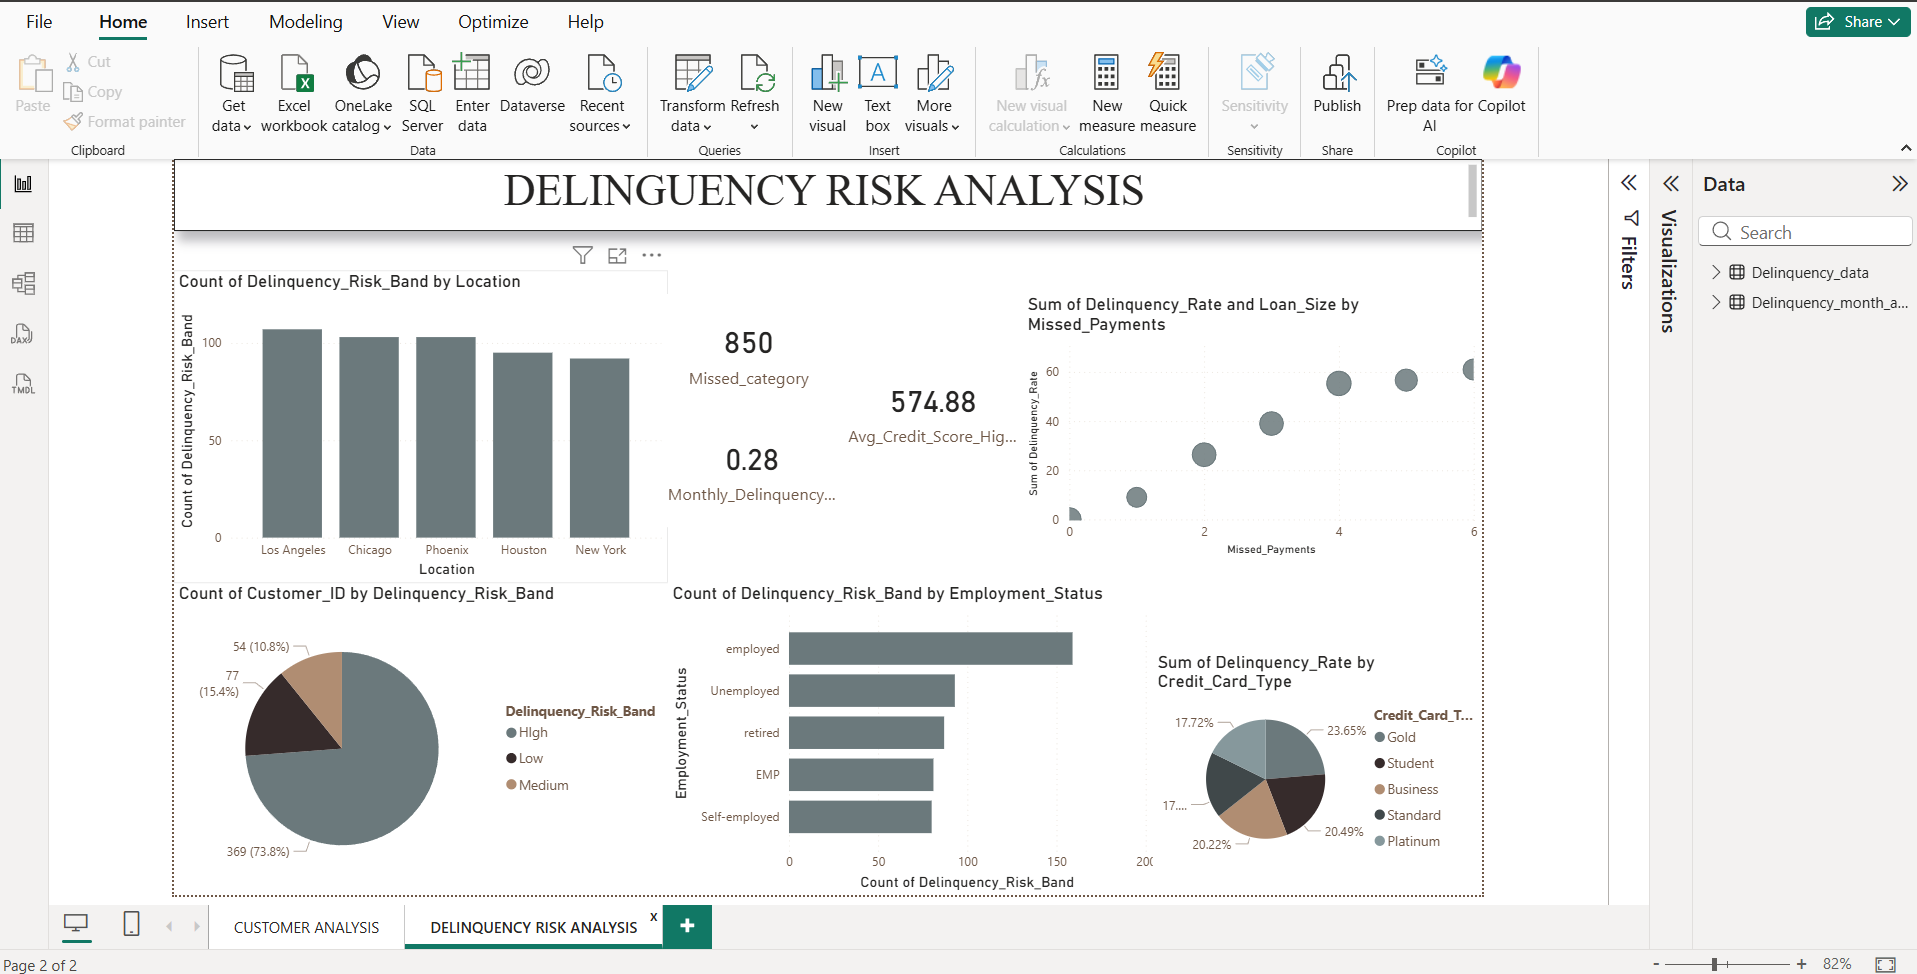

What the dashboard file says about the page in this screenshot:
{"tool":"powerbi","page":{"name":"DELINQUENCY RISK ANALYSIS","canvas":[1280,720],"ordinal":1},"visuals":[{"type":"pieChart","fields":{"Series":["Delinquency_data.Delinquency_Risk_Band"],"Y":["CountNonNull(Delinquency_data.Customer_ID)"]},"box":[0,414.3,483,305.7],"z":0},{"type":"columnChart","fields":{"Category":["Delinquency_data.Location"],"Y":["CountNonNull(Delinquency_data.Delinquency_Risk_Band)"]},"box":[0,109.1,482.7,305.6],"z":1000},{"type":"barChart","fields":{"Category":["Delinquency_data.Employment_Status"],"Y":["CountNonNull(Delinquency_data.Delinquency_Risk_Band)"]},"box":[482.7,414.7,482.7,305.6],"z":2000},{"type":"scatterChart","fields":{"Y":["Sum(Delinquency_data.Delinquency_Rate)"],"X":["Delinquency_data.Missed_Payments"],"Size":["CountNonNull(Delinquency_data.Loan_Size)"]},"box":[829.9,131.5,450.3,260.5],"z":3000},{"type":"pieChart","fields":{"Y":["Sum(Delinquency_data.Delinquency_Rate)"],"Category":["Delinquency_data.Credit_Card_Type"]},"box":[957.8,481.4,322.2,211.8],"z":4000},{"type":"card","fields":{"Values":["Delinquency_month_analysis.Missed_category"]},"box":[476.4,131.5,171.2,114.1],"z":5000},{"type":"card","fields":{"Values":["Delinquency_month_analysis.Monthly_Delinquency_Rate"]},"box":[476.4,245.6,177.4,114.1],"z":6000},{"type":"card","fields":{"Values":["Delinquency_month_analysis.Avg_Credit_Score_High_Risk"]},"box":[653.8,131.5,176.2,228.3],"z":7000},{"type":"textbox","box":[0,0,1280.3,70.7],"z":8000}]}

Visuals, with their boxes on the page's 1280x720 design canvas (x1, y1, x2, y2). These are canvas units, not pixel positions in the 1917x974 screenshot, which may show the page scaled, cropped or inside an application window:
pieChart - Delinquency_data.Delinquency_Risk_Band x CountNonNull(Delinquency_data.Customer_ID): left=0, top=414, right=483, bottom=720
columnChart - Delinquency_data.Location x CountNonNull(Delinquency_data.Delinquency_Risk_Band): left=0, top=109, right=483, bottom=415
barChart - Delinquency_data.Employment_Status x CountNonNull(Delinquency_data.Delinquency_Risk_Band): left=483, top=415, right=965, bottom=720
scatterChart - Sum(Delinquency_data.Delinquency_Rate) x Delinquency_data.Missed_Payments: left=830, top=132, right=1280, bottom=392
pieChart - Sum(Delinquency_data.Delinquency_Rate) x Delinquency_data.Credit_Card_Type: left=958, top=481, right=1280, bottom=693
card - Delinquency_month_analysis.Missed_category: left=476, top=132, right=648, bottom=246
card - Delinquency_month_analysis.Monthly_Delinquency_Rate: left=476, top=246, right=654, bottom=360
card - Delinquency_month_analysis.Avg_Credit_Score_High_Risk: left=654, top=132, right=830, bottom=360
textbox: left=0, top=0, right=1280, bottom=71
